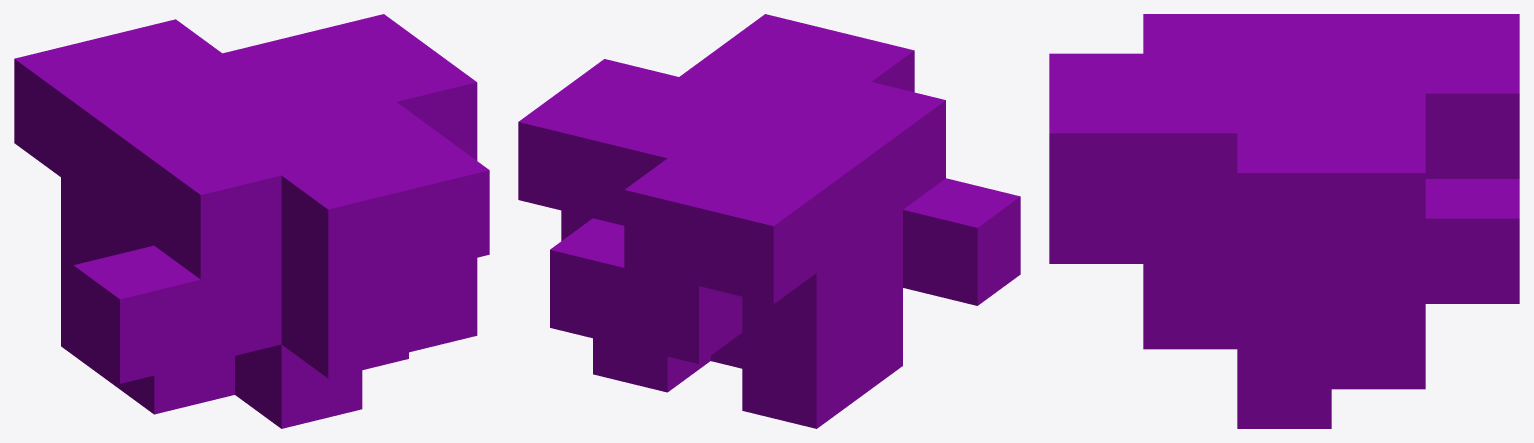
The model's file is lestnica1.obj.
The picture shows the model from 3 angles, left to right: view 1: azimuth 30°, elevation 25°; view 2: azimuth 150°, elevation 25°; view 3: azimuth 270°, elevation 25°; orthographic projection. The views are drawn at different scales.
Bounding box in the file's own units: 0.5 × 0.3 × 0.5.
1 material, 1 textured.
